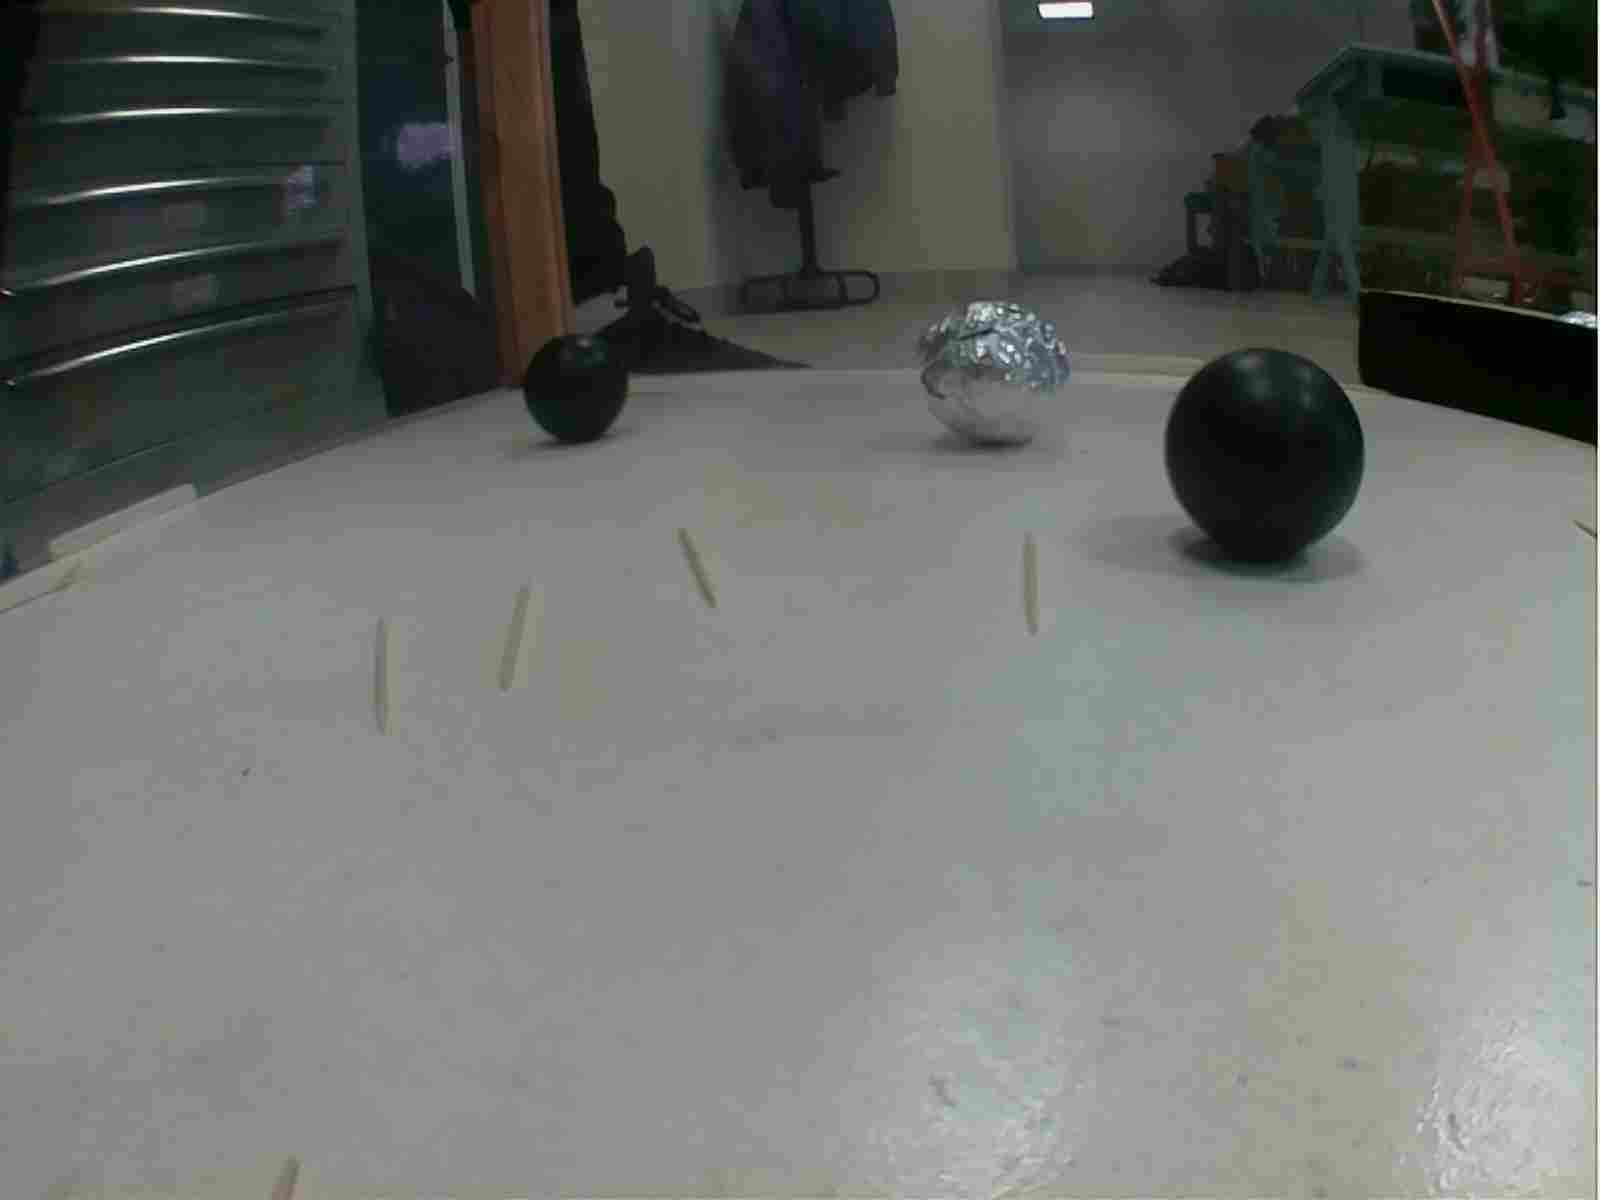bianca: (921, 297, 1072, 447)
nera: (1163, 349, 1367, 553), (523, 332, 630, 439)
